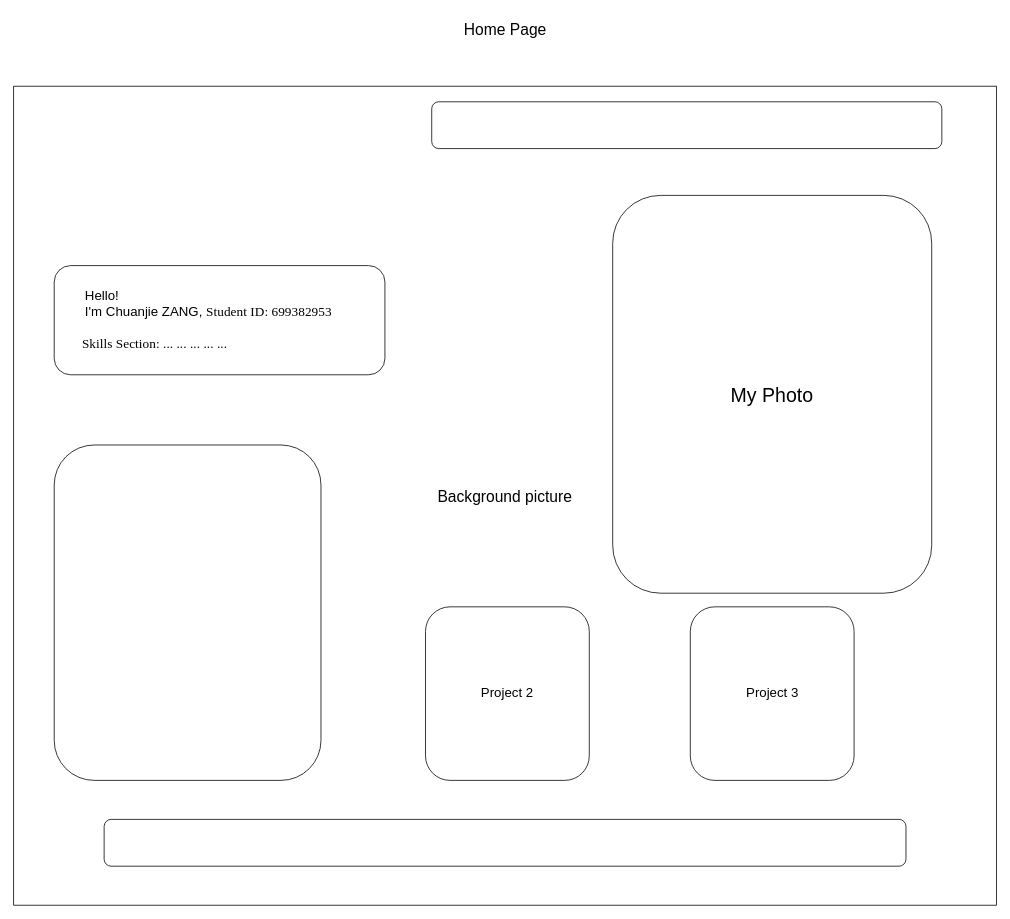
The diagram is 1010 pixels wide and 919 high, and some of its shapes have lost their labels. Each missing label, with the centre of its shape:
"Footer" goes at point (504, 842).
"Home About Projects Contace" goes at point (686, 125).
"Project 1" goes at point (187, 612).
